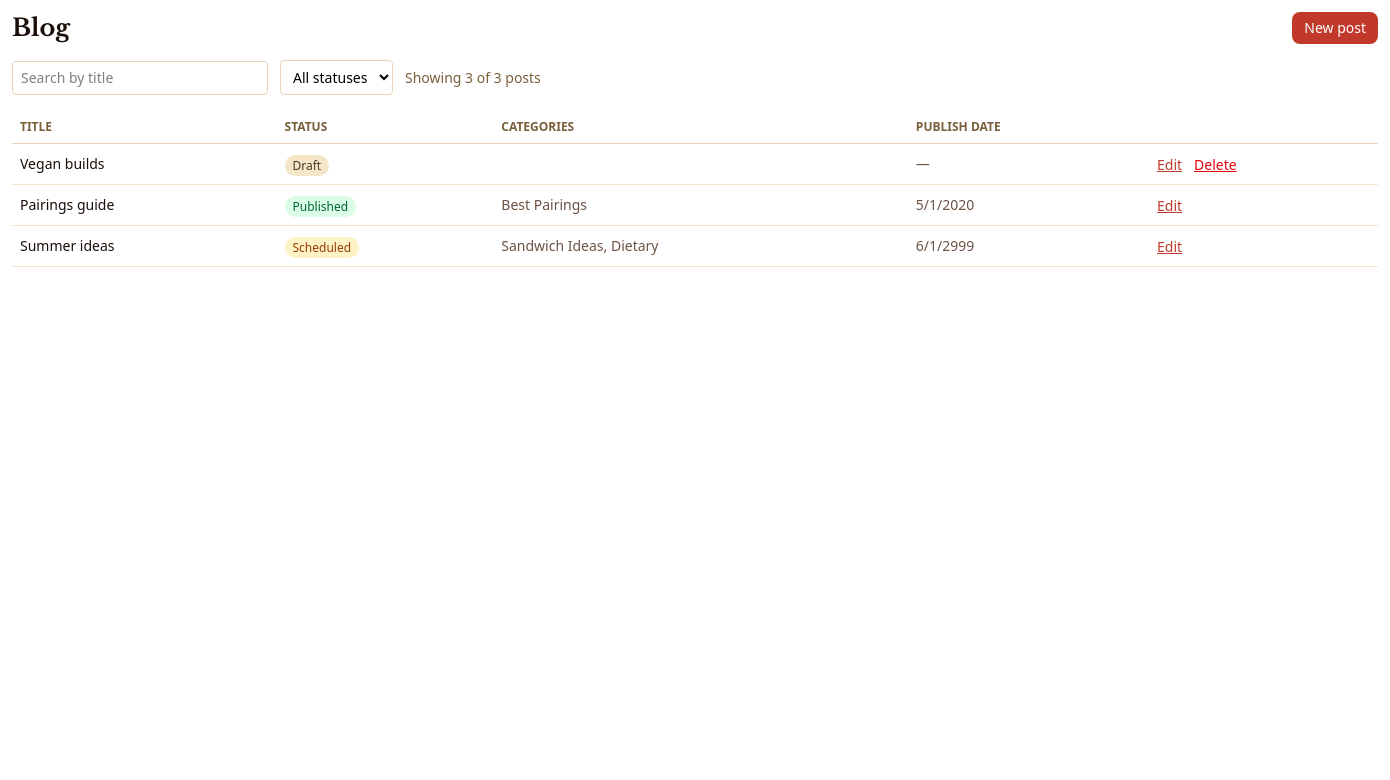
Scenario: BlogManagementPage creating a post › lists every category as a checkbox, none ticked
Expected: the text "Vegan builds" is shown, [12,144,276,184]
Click the button "New post". click: [1335, 28]
box: [1292,12,1378,44]
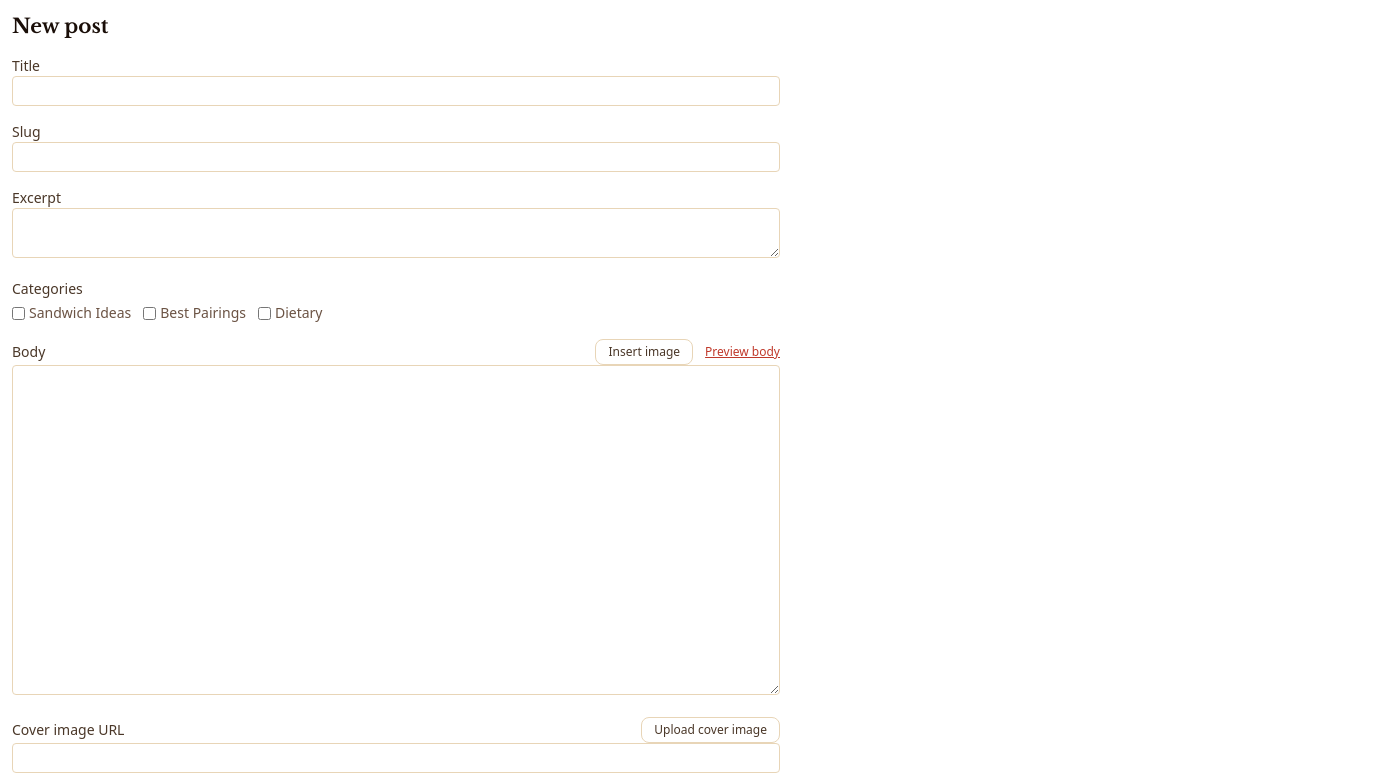
Now the checkbox labelled "Best Pairings" is shown, box [143,306,156,320]
